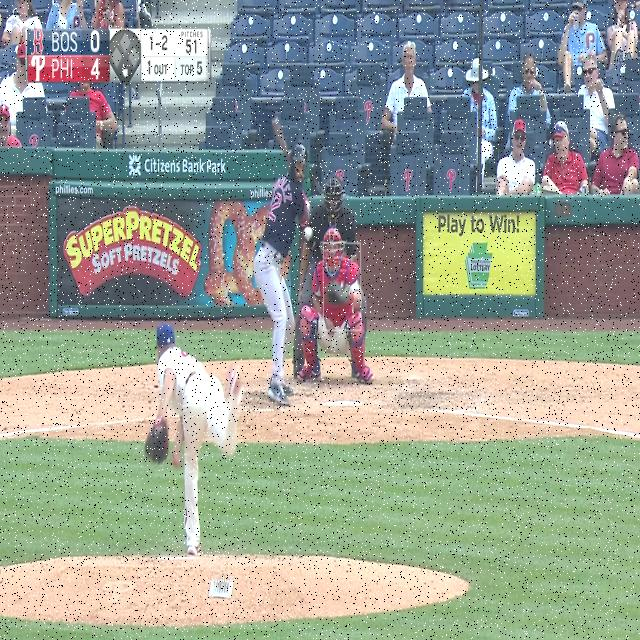baseball: (303, 227, 313, 240)
